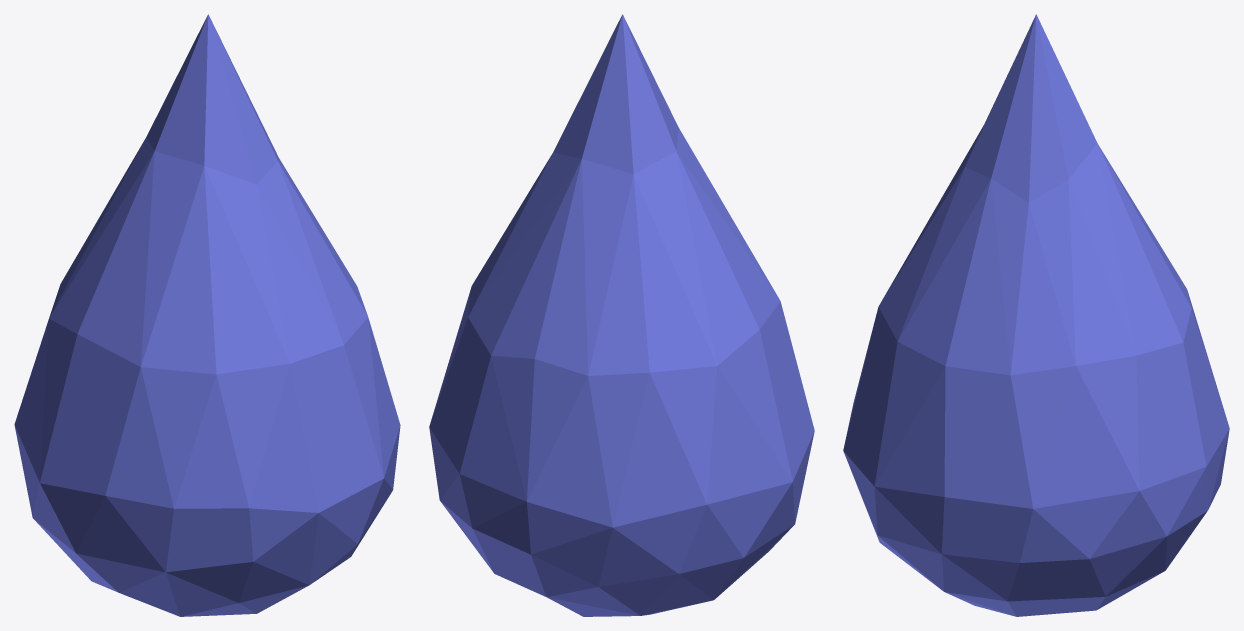
Rendered from Water.fbx.
3 views of the same model, side by side, from view 1: azimuth 30°, elevation 25°; view 2: azimuth 150°, elevation 25°; view 3: azimuth 270°, elevation 25° (orthographic).
Parts seen in each view (by area): view 1: Sphere.003; view 2: Sphere.003; view 3: Sphere.003.
Boxes of the visible parts, x1,y1,x2,y2 form: Sphere.003: (14,14,400,616); Sphere.003: (429,14,814,616); Sphere.003: (843,14,1229,616).
Bounding box in the file's own units: 228 × 377 × 227.
